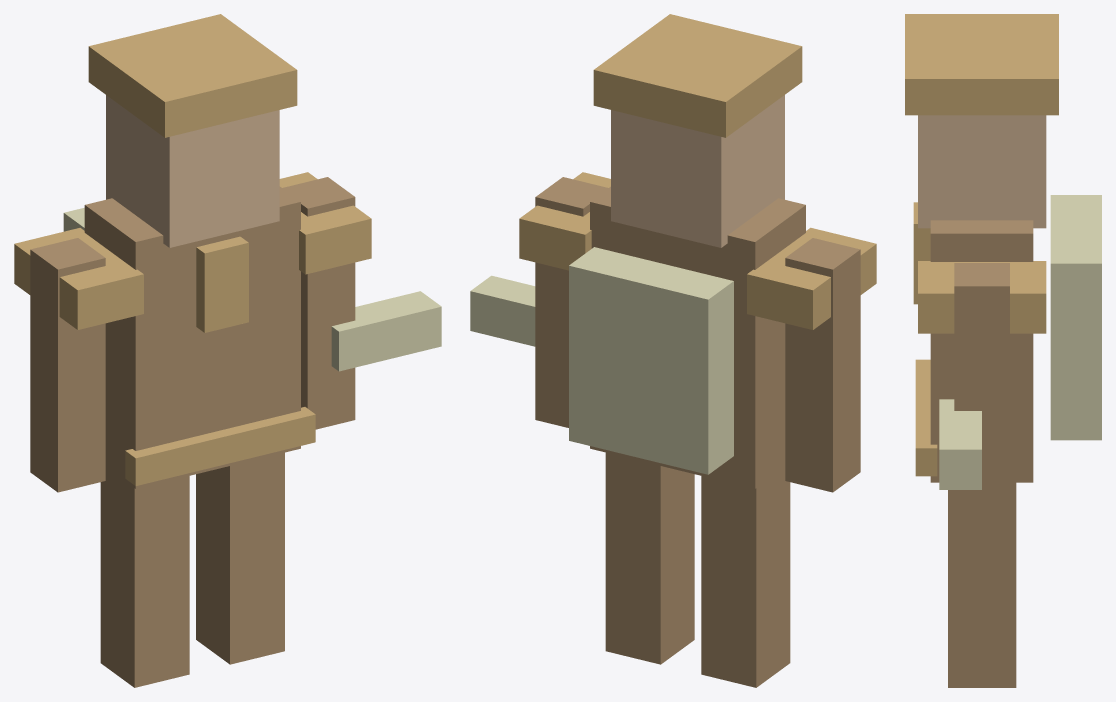
File: 16_varren_stormhush_scout_under_lexicon.glb
3 views of the same model, side by side, from view 1: azimuth 30°, elevation 25°; view 2: azimuth 150°, elevation 25°; view 3: azimuth 270°, elevation 25° (orthographic).
Parts seen in each view (by area): view 1: Varren Stormhush, Scout under Lexicon; view 2: Varren Stormhush, Scout under Lexicon; view 3: Varren Stormhush, Scout under Lexicon.
Part boxes in pixels (x1,y1,x2,y2): Varren Stormhush, Scout under Lexicon: (14, 14, 441, 687); Varren Stormhush, Scout under Lexicon: (470, 14, 876, 687); Varren Stormhush, Scout under Lexicon: (905, 14, 1101, 687).
Bounding box in the file's own units: 0.9485 × 1.44 × 0.4257.
